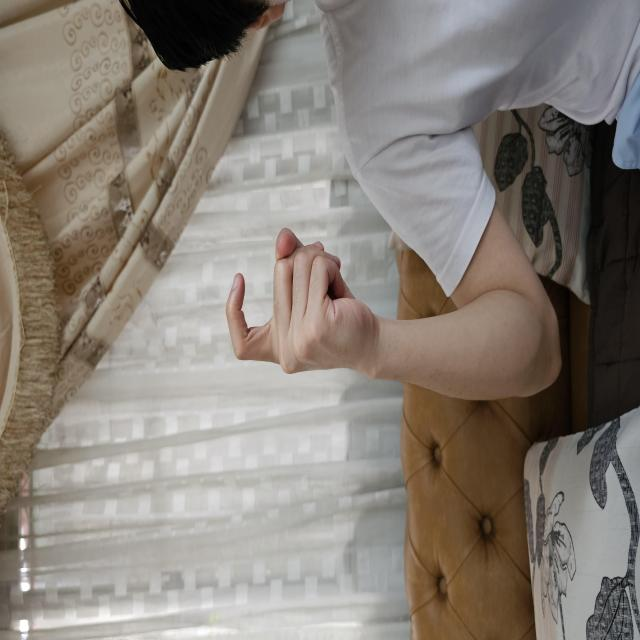X: (263, 224, 418, 380)
